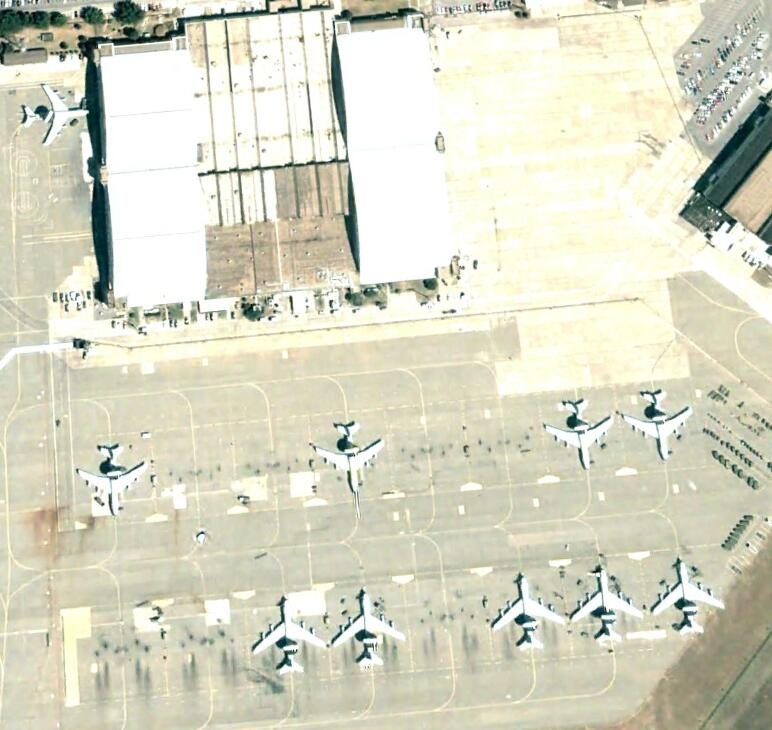A7: (331, 589, 408, 670), (254, 595, 327, 676), (572, 565, 644, 644), (491, 572, 565, 648), (313, 418, 386, 495), (75, 442, 148, 517), (653, 560, 724, 635), (546, 399, 617, 471), (624, 389, 694, 460), (22, 82, 92, 149)
